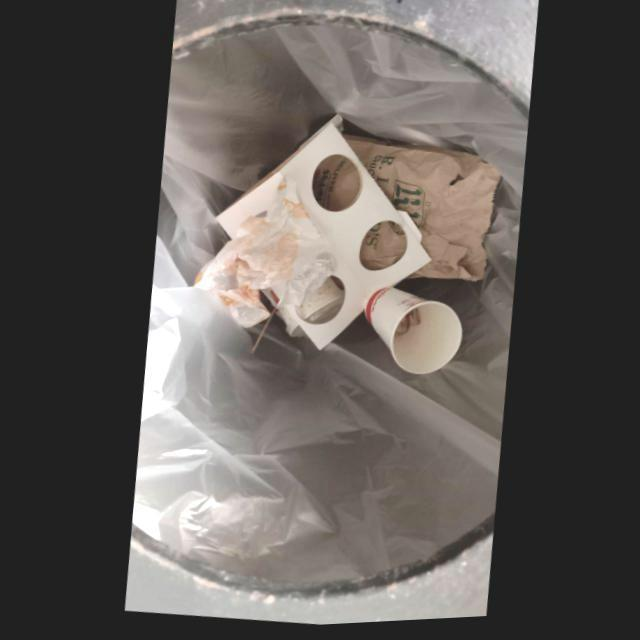cardboard: (214, 125, 427, 354), (362, 290, 460, 378)
paper: (345, 141, 499, 286), (192, 178, 326, 330), (280, 258, 331, 309)
